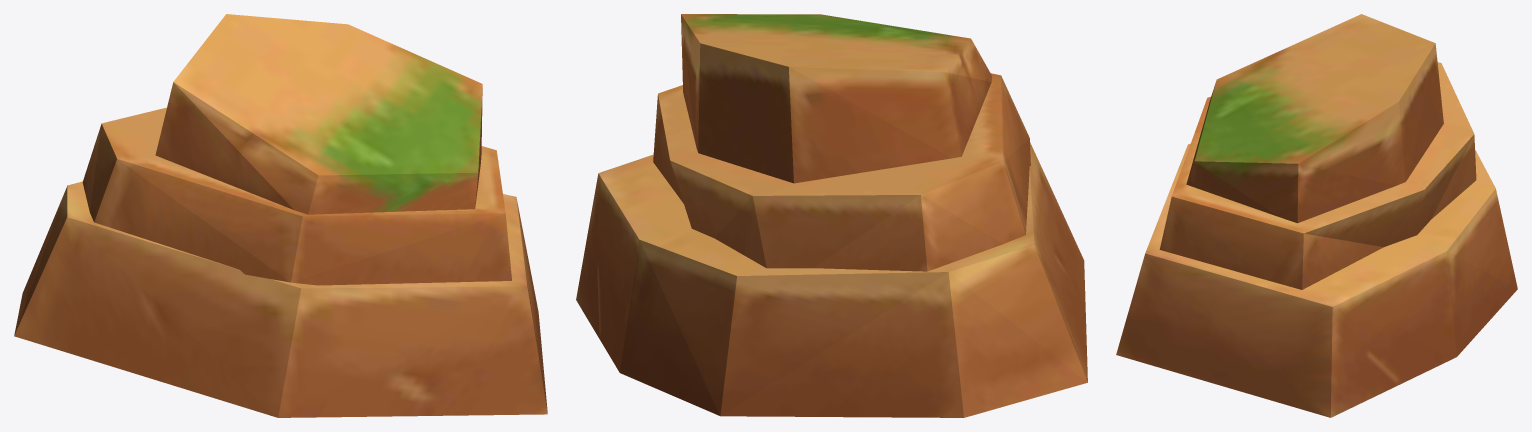
Rendered from shatan_shishan04.fbx.
3 renders of one model, left to right at view 1: azimuth 30°, elevation 25°; view 2: azimuth 150°, elevation 25°; view 3: azimuth 270°, elevation 25°, orthographic. The views are drawn at different scales.
Parts seen in each view (by area): view 1: shatan_shishan04; view 2: shatan_shishan04; view 3: shatan_shishan04.
Part boxes in pixels (x1,y1,x2,y2): shatan_shishan04: (14,14,547,417); shatan_shishan04: (576,14,1087,417); shatan_shishan04: (1116,14,1517,417).
Bounding box in the file's own units: 3.72 × 2.28 × 3.08.
